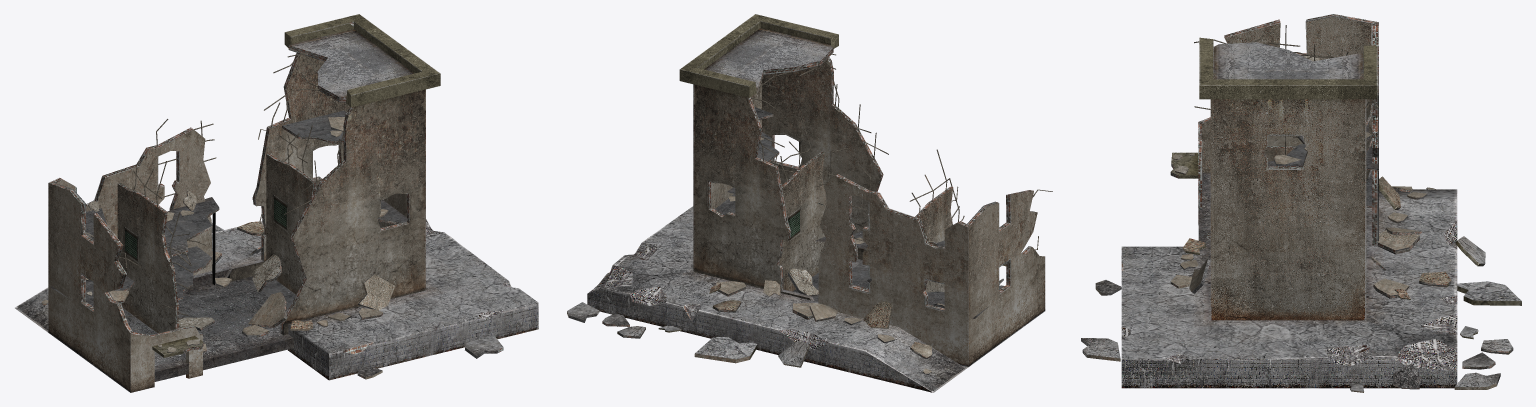
Rendered from buildings_16_ruin.FBX.
The picture shows the model from 3 angles, left to right: view 1: azimuth 30°, elevation 25°; view 2: azimuth 150°, elevation 25°; view 3: azimuth 270°, elevation 25°; orthographic projection. The views are drawn at different scales.
Parts seen in each view (by area): view 1: Object003; view 2: Object003; view 3: Object003.
Part boxes in pixels (<box>): Object003: <box>15,14,538,392</box>; Object003: <box>567,14,1052,392</box>; Object003: <box>1081,14,1521,392</box>.
Size of the model in its own units: 1659 by 1463 by 985.
Materials: 1 (1 with a texture image).
